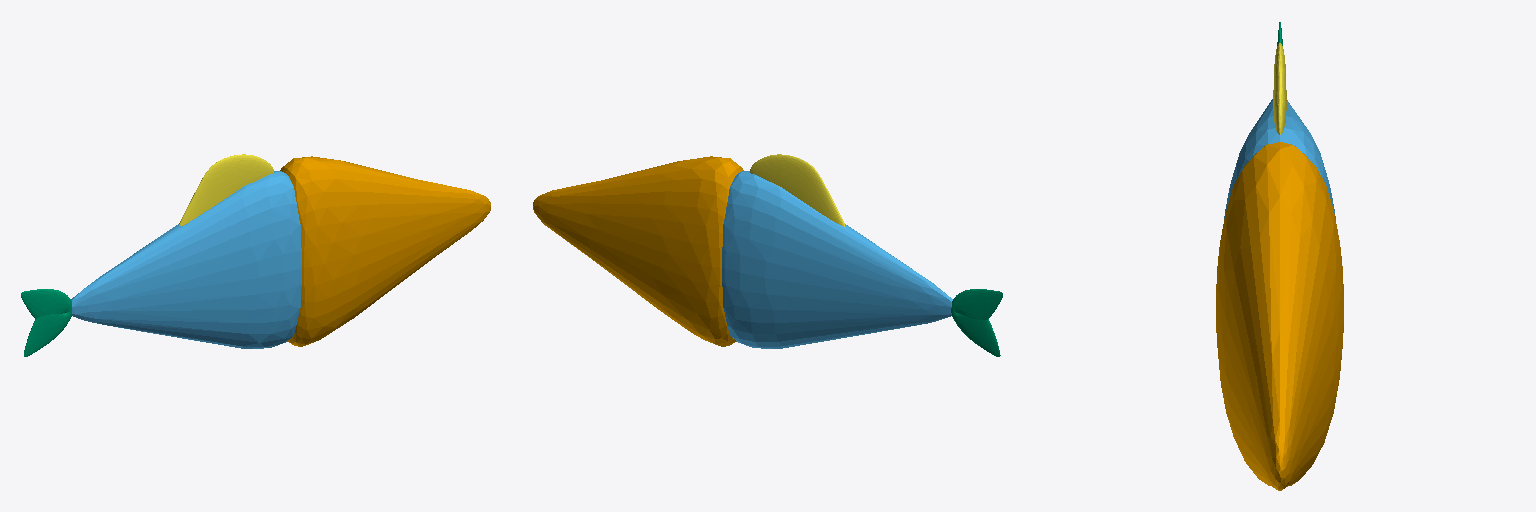
The robot description file, URDF, robot "fish5":
<?xml version="1.0" ?>
<!-- =================================================================================== -->
<!-- |    This document was autogenerated by xacro from Fish2.xacro                    | -->
<!-- |    EDITING THIS FILE BY HAND IS NOT RECOMMENDED                                 | -->
<!-- =================================================================================== -->
<robot name="fish5" xmlns:xacro="http://www.ros.org/wiki/xacro">
  <link name="base_link">
    <visual>
      <origin rpy="0 0 0" xyz="0 0 0"/>
      <geometry>
        <mesh filename="package://uwsim_models/uwsim_fish_urdf/Fish_models/Fish5_1.dae"/>
      </geometry>
    </visual>
  </link>

  <link name="body">
    <visual>
      <origin rpy="0 0 0" xyz="0 0 0"/>
      <geometry>
        <mesh filename="package://uwsim_models/uwsim_fish_urdf/Fish_models/Fish5_2.dae"/>
      </geometry>
    </visual>
  </link>

  <joint name="Slew" type="continuous">
    <parent link="base_link"/>
    <child link="body"/>
    <axis xyz="0 0 1"/>
    <origin rpy="0 0 0" xyz="0 0 0"/>
    <limit effort="1000.0" lower="-0.5488" upper="0.5488" velocity="1.0"/>
  </joint>

  <link name="tail">
    <visual>
      <origin rpy="0 0 0" xyz="0 0 0"/>
      <geometry>
        <mesh filename="package://uwsim_models/uwsim_fish_urdf/Fish_models/Fish5_Tail.dae"/>
      </geometry>
    </visual>
  </link>

  <joint name="Shoulder" type="continuous">
    <parent link="body"/>
    <child link="tail"/>
    <axis xyz="0 0 1"/>
    <origin rpy="0 0 0" xyz="-6 0 0"/>
    <limit effort="1000.0" lower="-0.5488" upper="0.5488" velocity="1.0"/>
  </joint>

  <link name="fin">
    <visual>
      <origin rpy="0 0 0" xyz="0 0 0"/>
      <geometry>
        <mesh filename="package://uwsim_models/uwsim_fish_urdf/Fish_models/Fish5_Fin.dae"/>
      </geometry>
    </visual>
  </link>

  <joint name="Elbow" type="continuous">
    <parent link="body"/>
    <child link="fin"/>
    <axis xyz="1 0 0"/>
    <origin rpy="0 -0.5235 0" xyz="-0.5 0 2.1"/>
    <limit effort="1000.0" lower="-0.5" upper="0.5" velocity="1.0"/>
  </joint>
</robot>

--- What the picture shows (computed from the rendered views, not written in the file) ---
3 views of the same robot in one strip: view 1: azimuth 30°, elevation 25°; view 2: azimuth 150°, elevation 25°; view 3: azimuth 270°, elevation 25° (orthographic).
Model fish5 with 4 links and 3 joints (3 continuous), rooted at base_link, posed every joint at zero.
Visible links, largest first — view 1: body, base_link, fin, tail; view 2: body, base_link, fin, tail; view 3: base_link, body, fin.
Link boxes in pixels (<box>): body: <box>71,171,301,348</box>; base_link: <box>280,156,490,346</box>; fin: <box>179,154,273,225</box>; tail: <box>21,289,71,356</box>; body: <box>722,171,952,348</box>; base_link: <box>533,156,743,346</box>; fin: <box>750,154,844,226</box>; tail: <box>951,289,1002,356</box>; base_link: <box>1216,142,1343,490</box>; body: <box>1224,99,1335,218</box>; fin: <box>1273,43,1286,134</box>.
Bounding box of the posed robot: 12.54 × 1.68 × 5.24 m (x, y, z).
4 mesh visuals loaded from 4 distinct referenced files (4 Collada DAE).